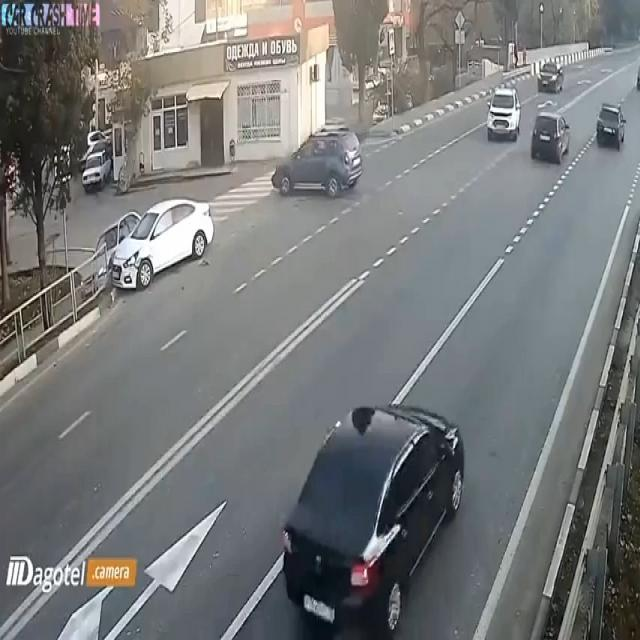Accident: (103, 166, 207, 291)
